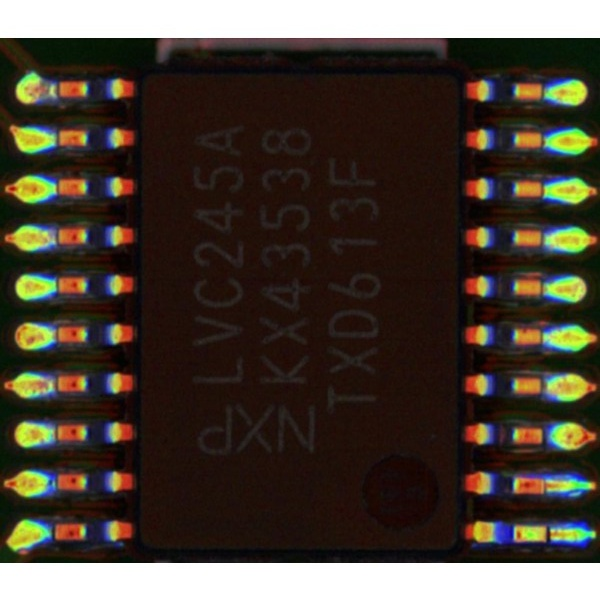Bad_podu: (539, 527, 564, 540), (539, 479, 560, 491)
